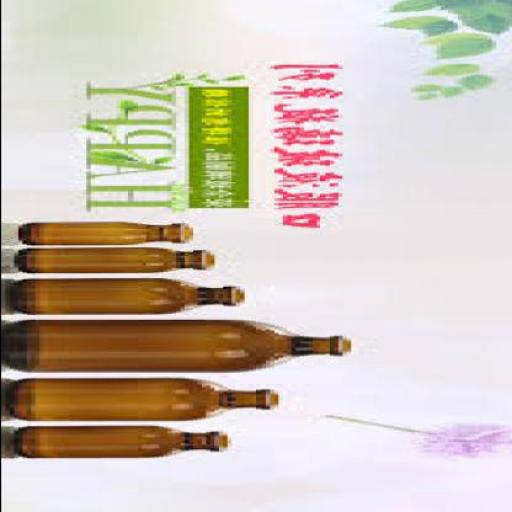glass: (8, 320, 354, 374), (8, 380, 282, 422), (17, 281, 251, 315), (16, 428, 230, 460), (17, 250, 218, 274), (22, 223, 196, 247)
